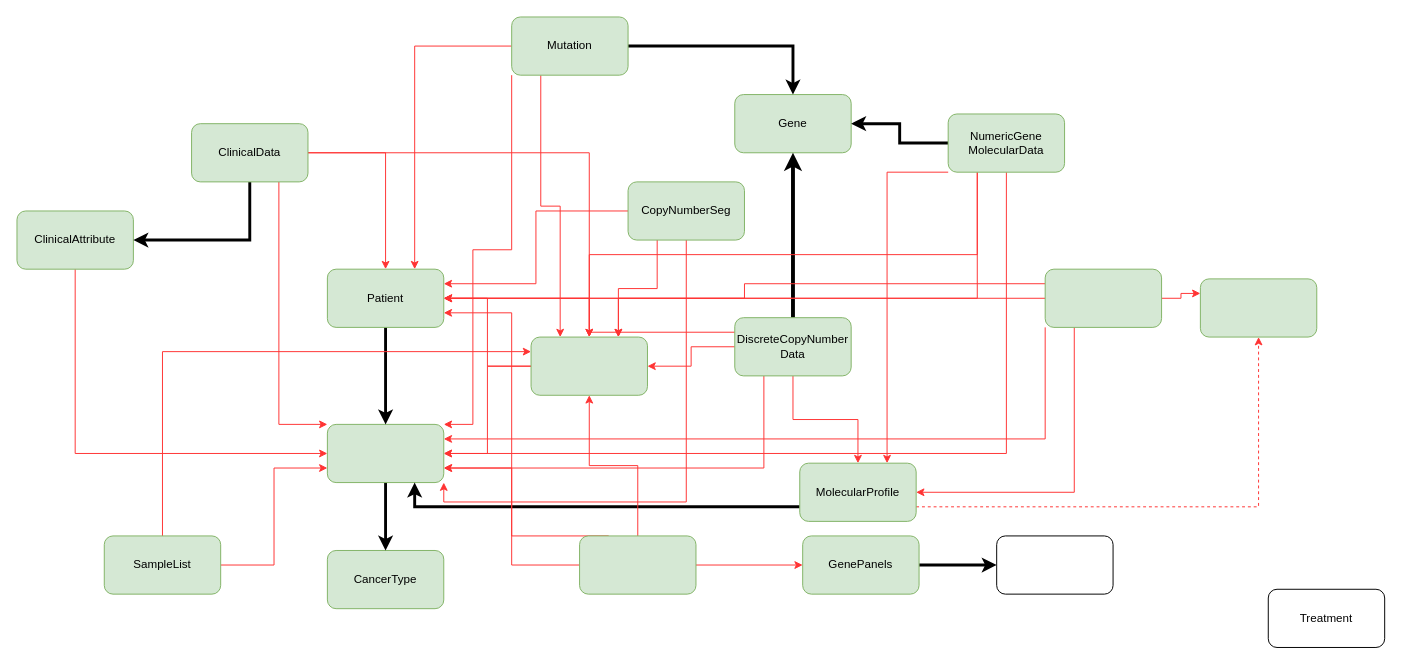
Image size: 1402x664. Some labels were removed from this diagram. Each missing label, with the centre of its shape:
"GenePanelData" belongs at (x=637, y=564).
"GenePanelToGene" belongs at (x=1054, y=564).
"GenericAssay" belongs at (x=1258, y=307).
"GenericAssayData" belongs at (x=1103, y=297).
"Sample" belongs at (x=588, y=365).
"Study" belongs at (x=385, y=453).
